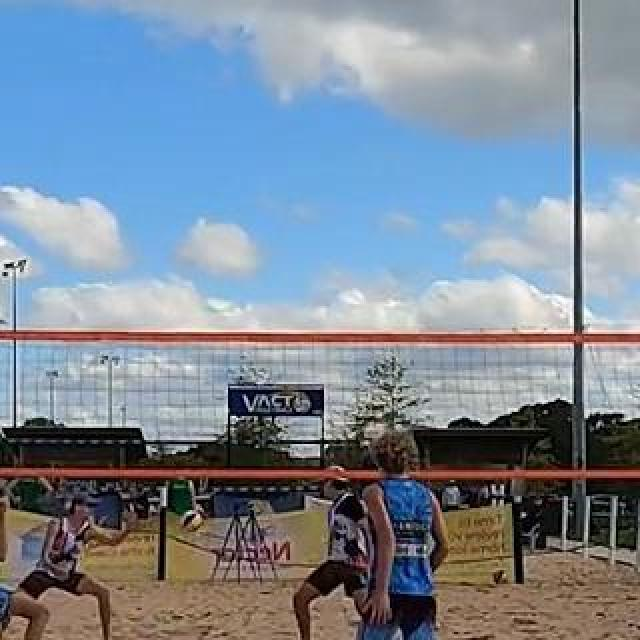volleyball: (181, 509, 203, 533), (493, 568, 509, 586)
